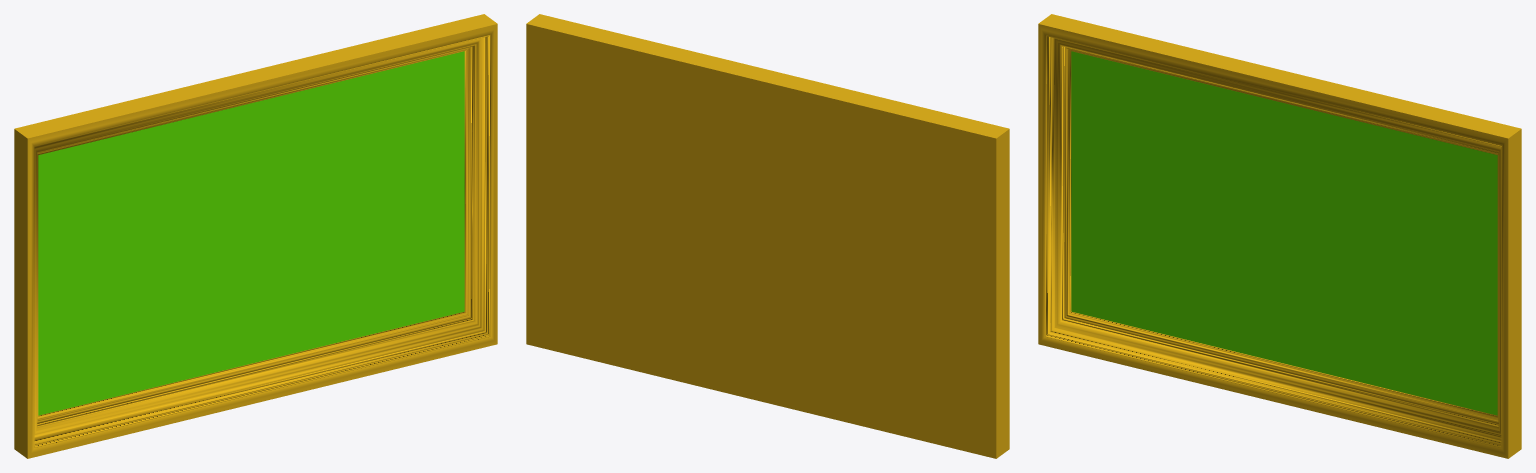
File: CUADRO_wUV.fbx
The picture shows the model from 3 angles, left to right: view 1: azimuth 30°, elevation 25°; view 2: azimuth 150°, elevation 25°; view 3: azimuth 330°, elevation 25°; orthographic projection.
Visible parts, largest first — view 1: Cube.001, Cube; view 2: Cube; view 3: Cube.001, Cube.
Part boxes in pixels (x1,y1,x2,y2): Cube.001: [38, 51, 464, 415]; Cube: [14, 14, 497, 458]; Cube: [526, 14, 1009, 458]; Cube.001: [1071, 51, 1497, 415]; Cube: [1038, 14, 1521, 458].
Size of the model in its own units: 515 by 335 by 25.54.
